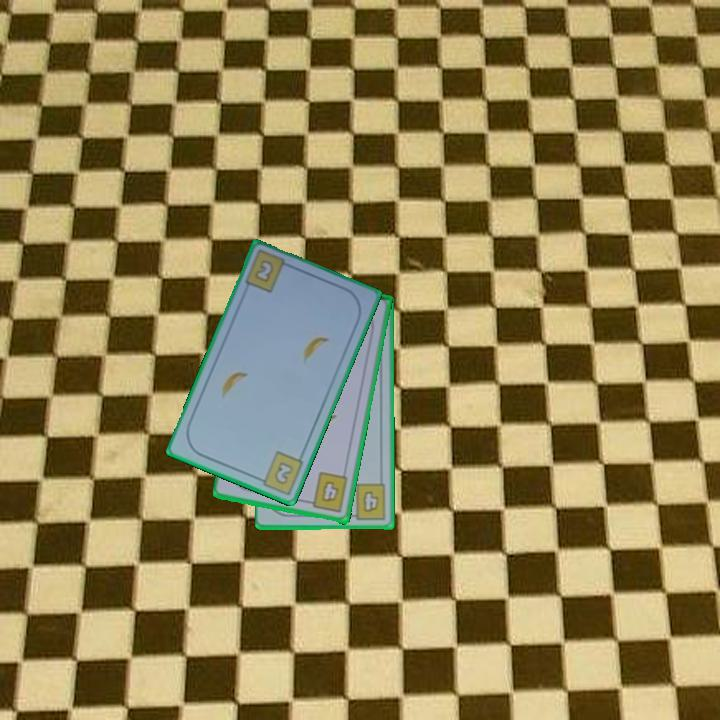2b: (252, 447, 307, 497), (251, 257, 277, 286)
4b: (303, 469, 351, 516), (345, 480, 389, 522)
